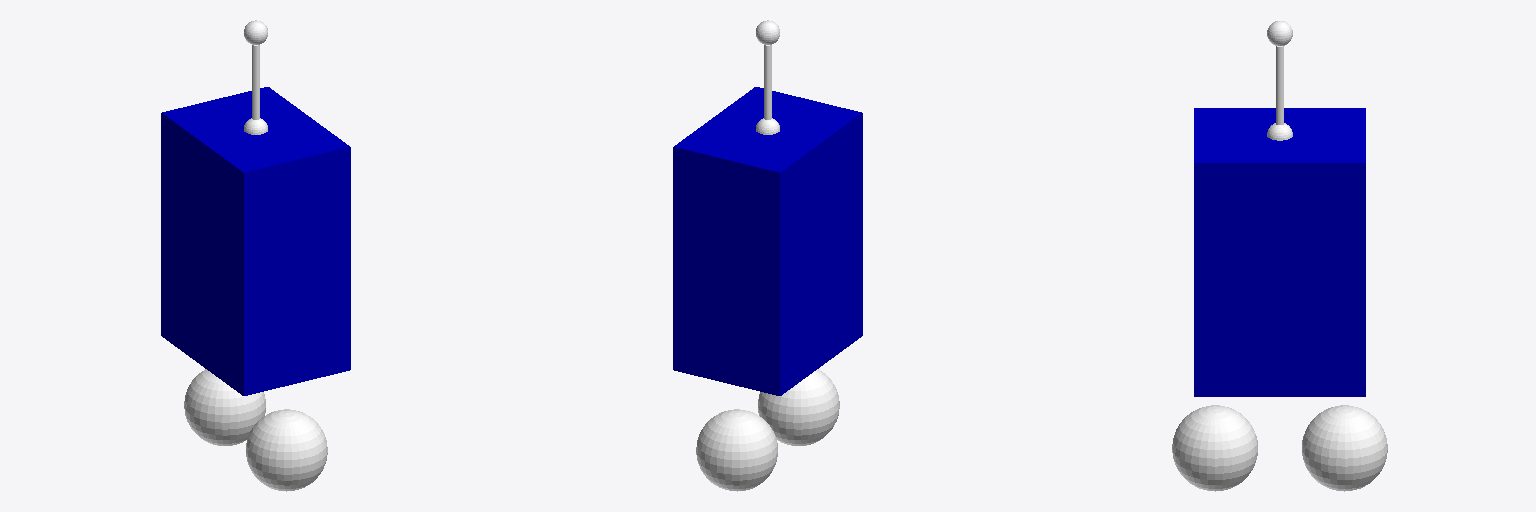
The robot description file, URDF, robot "roped_template":
<?xml version="1.0" ?>
<robot name="roped_template">
    
<material name="blue">
  <color rgba="0 0 0.8 1"/>
</material>
<material name="black">
  <color rgba="0 0 0 1"/>
</material>
<material name="white">
  <color rgba="1 1 1 1"/>
</material>
<material name="grey">
  <color rgba="0.5 0.5 0.5 1"/>
</material>
<material name="red">
  <color rgba="1.0 0.0 0.0 1"/>
</material>

<link name="base_link"/>

<link name="Waist">
  <inertial>
      <origin rpy="0 0 0" xyz="0.0 0.0 0.0"/>
      <!--mass value="69.0"/-->
      <mass value="40.0"/>
      <!--inertia ixx="2.1667" ixy="0.0" ixz="0.0" iyy="1.8750" iyz="0.0" izz="1.0417"/-->
      <inertia ixx="1.5" ixy="0.0" ixz="0.0" iyy="1.733" iyz="0.0" izz="0.8333"/>
  </inertial>
  <visual>
      <origin rpy="0 0 0" xyz="0.0 0.0 0.0"/>
      <geometry name="Waist_visual">
        <box size="0.3 0.4 0.6"/>
      </geometry>
      <material name="blue"/>
  </visual>
  <collision>
      <origin rpy="0 0 0" xyz="0.0 0.0 0.0"/>
      <geometry name="Waist_collision">
        <box size="0.3 0.4 0.6"/>
      </geometry>
  </collision>
</link>

<joint name="base_joint" type="fixed">
    <parent link="base_link"/>
    <child link="Waist"/>
    <origin rpy="0 0 0" xyz="0 0 0"/>
</joint>

<link name="world"/>

<joint name="reference" type="floating">
    <parent link="world"/>
<child link="base_link"/>
</joint>

<!-- CONTACT LINKS -->
<link name="Contact1_0"/>
<link name="Contact1_1"/>
<link name="Contact1">
  <inertial>
      <origin rpy="0 0 0" xyz="0.0 0.0 0.0"/>
      <mass value="10.0"/>
      <inertia ixx="0.04" ixy="0.0" ixz="0.0" iyy="0.04" iyz="0.0" izz="0.04"/>
  </inertial>
  <visual>
      <origin rpy="0 0 0" xyz="0.0 0.0 0.0"/>
      <geometry name="Contact1_visual">
        <sphere radius="0.1"/>
      </geometry>
      <material name="white"/>
  </visual>
  <collision>
      <origin rpy="0 0 0" xyz="0.0 0.0 0.0"/>
      <geometry name="Contact1_collision">
        <sphere radius="0.1"/>
      </geometry>
  </collision>
</link>

<link name="Contact2_0"/>
<link name="Contact2_1"/>
<link name="Contact2">
  <inertial>
      <origin rpy="0 0 0" xyz="0.0 0.0 0.0"/>
      <mass value="10.0"/>
      <inertia ixx="0.04" ixy="0.0" ixz="0.0" iyy="0.04" iyz="0.0" izz="0.04"/>
  </inertial>
  <visual>
      <origin rpy="0 0 0" xyz="0.0 0.0 0.0"/>
      <geometry name="contact_link2_visual">
         <sphere radius="0.1"/>
      </geometry>
      <material name="white"/>
  </visual>
  <collision>
      <origin rpy="0 0 0" xyz="0.0 0.0 0.0"/>
      <geometry name="contact_link2_collision">
        <sphere radius="0.1"/>
      </geometry>
  </collision>
</link>


<!-- JOINTS -->
<!-- right leg-->
<joint name="Contact1_x" type="prismatic">
    <axis xyz="1 0 0"/>
    <parent link="Waist"/>
    <child link="Contact1_0"/>
    <origin rpy="0 0 0" xyz="0 0 0"/>
    <limit effort="0" lower="-.3" upper=".3" velocity="1"/>
</joint>
<joint name="Contact1_y" type="prismatic">
    <axis xyz="0 1 0"/>
    <parent link="Contact1_0"/>
    <child link="Contact1_1"/>
    <origin rpy="0 0 0" xyz="0 -0.15 0"/>
    <limit effort="0" lower="-0.1" upper="0.05" velocity="1"/>
</joint>
<joint name="Contact1_z" type="prismatic">
    <axis xyz="0 0 1"/>
    <parent link="Contact1_1"/>
    <child link="Contact1"/>
    <origin rpy="0 0 0" xyz="0 0 -0.5"/>
    <limit effort="0" lower="-0.1" upper="0.1" velocity="1"/>
</joint>

<!-- left leg-->
<joint name="Contact2_x" type="prismatic">
    <axis xyz="1 0 0"/>
    <parent link="Waist"/>
    <child link="Contact2_0"/>
    <origin rpy="0 0 0" xyz="0 0 0"/>
    <limit effort="0" lower="-.3" upper=".3" velocity="1"/>
</joint>
<joint name="Contact2_y" type="prismatic">
    <axis xyz="0 1 0"/>
    <parent link="Contact2_0"/>
    <child link="Contact2_1"/>
    <origin rpy="0 0 0" xyz="0 0.15 0"/>
    <limit effort="0" lower="-0.05" upper="0.1" velocity="1"/>
</joint>
<joint name="Contact2_z" type="prismatic">
    <axis xyz="0 0 1"/>
    <parent link="Contact2_1"/>
    <child link="Contact2"/>
    <origin rpy="0 0 0" xyz="0 0 -0.5"/>
    <limit effort="0" lower="-0.1" upper="0.1" velocity="1"/>
</joint>

<!-- anchor body-->
<link name="rope_anchor1_1"/>
<link name="rope_anchor1_2"/>
<link name="rope_anchor1_3">
<visual>
      <origin rpy="0 0 0" xyz="0.0 0.0 0.0"/>
      <geometry name="rope_anchor1_3_visual">
         <sphere radius="0.03"/>
      </geometry>
      <material name="white"/>
  </visual>
  <collision>
      <origin rpy="0 0 0" xyz="0.0 0.0 0.0"/>
      <geometry name="rope_anchor1_3_collision">
        <sphere radius="0.03"/>
      </geometry>
  </collision>
</link>

<joint name="rope_anchor1_1_x" type="revolute">
    <axis xyz="1 0 0"/>
    <parent link="Waist"/>
    <child link="rope_anchor1_1"/>
    <origin rpy="0 0 0" xyz="0 0 0.3"/>
    <limit effort="0" lower="-1.57" upper="1.57" velocity="10"/>
</joint>
<joint name="rope_anchor1_2_y" type="revolute">
    <axis xyz="0 1 0"/>
    <parent link="rope_anchor1_1"/>
    <child link="rope_anchor1_2"/>
    <origin rpy="0 0 0" xyz="0 0 0"/>
    <limit effort="0" lower="-1.57" upper="1.57" velocity="10"/>
</joint>
<joint name="rope_anchor1_3_z" type="revolute">
    <axis xyz="0 0 1"/>
    <parent link="rope_anchor1_2"/>
    <child link="rope_anchor1_3"/>
    <origin rpy="0 0 0" xyz="0 0 0"/>
    <limit effort="0" lower="-3.1415" upper="3.1415" velocity="10"/>
</joint>

<!-- rope -->
<link name="rope_link1">
  <inertial>
      <origin rpy="0 0 0" xyz="0.0 0.0 0.0"/>
      <mass value="1.0"/>
      <inertia ixx="0.187" ixy="0.0" ixz="0.0" iyy="0.187" iyz="0.0" izz="0.00005"/>
  </inertial>
<visual>
      <origin rpy="0 0 0" xyz="0.0 0.0 0.0"/>
      <geometry name="rope_link1_visual">
         <cylinder length="0.2" radius="0.01"/>
      </geometry>
      <material name="white"/>
  </visual>
  <collision>
      <origin rpy="0 0 0" xyz="0.0 0.0 0.0"/>
      <geometry name="rope_link1_collision">
        <cylinder length="0.2" radius="0.01"/>
      </geometry>
  </collision>
</link>

<joint name="rope_link1_joint" type="fixed">
    <parent link="rope_anchor1_3"/>
    <child link="rope_link1"/>
    <origin rpy="0 0 0" xyz="0 0 0.13"/>
</joint>

<link name="rope_link2">
  <inertial>
      <origin rpy="0 0 0" xyz="0.0 0.0 0.0"/>
      <mass value="1.0"/>
      <inertia ixx="0.187" ixy="0.0" ixz="0.0" iyy="0.187" iyz="0.0" izz="0.00005"/>
  </inertial>
<visual>
      <origin rpy="0 0 0" xyz="0.0 0.0 0.0"/>
      <geometry name="rope_link2_visual">
         <cylinder length="0.2" radius="0.01"/>
      </geometry>
      <material name="white"/>
  </visual>
  <collision>
      <origin rpy="0 0 0" xyz="0.0 0.0 0.0"/>
      <geometry name="rope_link2_collision">
        <cylinder length="0.2" radius="0.01"/>
      </geometry>
  </collision>
</link>

<joint name="rope_joint" type="prismatic">
    <axis xyz="0 0 1"/>
    <parent link="rope_link1"/>
    <child link="rope_link2"/>
    <origin rpy="0 0 0" xyz="0 0 0"/>
    <limit effort="0" lower="0" upper="10" velocity="10"/>
</joint>

<!-- anchor body 2-->
<link name="rope_anchor2">
<visual>
      <origin rpy="0 0 0" xyz="0.0 0.0 0.0"/>
      <geometry name="rope_anchor2_visual">
         <sphere radius="0.03"/>
      </geometry>
      <material name="white"/>
  </visual>
  <collision>
      <origin rpy="0 0 0" xyz="0.0 0.0 0.0"/>
      <geometry name="rope_anchor2_collision">
        <sphere radius="0.03"/>
      </geometry>
  </collision>
</link>

<joint name="rope_anchor2_j" type="fixed">
    <axis xyz="1 0 0"/>
    <parent link="rope_link2"/>
    <child link="rope_anchor2"/>
    <origin rpy="0 0 0" xyz="0 0 0.13"/>
</joint>

</robot>

--- Render facts (derived) ---
Views: 3 orthographic renders of the robot side by side, from view 1: azimuth 30°, elevation 25°; view 2: azimuth 150°, elevation 25°; view 3: azimuth 270°, elevation 25°.
Model roped_template with 15 links and 14 joints (3 revolute, 7 prismatic, 3 fixed, 1 floating), rooted at world, posed every joint at zero.
Visible links, largest first — view 1: Waist, Contact1, Contact2, rope_link1; view 2: Waist, Contact2, Contact1, rope_link1; view 3: Waist, Contact1, Contact2, rope_link1.
Link boxes in pixels (<box>): Waist: <box>161,87,350,395</box>; Contact1: <box>246,409,327,491</box>; Contact2: <box>184,369,265,445</box>; rope_link1: <box>252,45,259,119</box>; Waist: <box>673,87,862,395</box>; Contact2: <box>696,409,777,491</box>; Contact1: <box>758,369,839,445</box>; rope_link1: <box>764,45,771,119</box>; Waist: <box>1194,108,1365,396</box>; Contact1: <box>1172,405,1257,491</box>; Contact2: <box>1302,405,1387,491</box>; rope_link1: <box>1276,46,1283,124</box>.
Size in the robot's own frame: 0.3 by 0.5 by 1.19 metres.
Geometry: primitives only (box / cylinder / sphere), no mesh files.